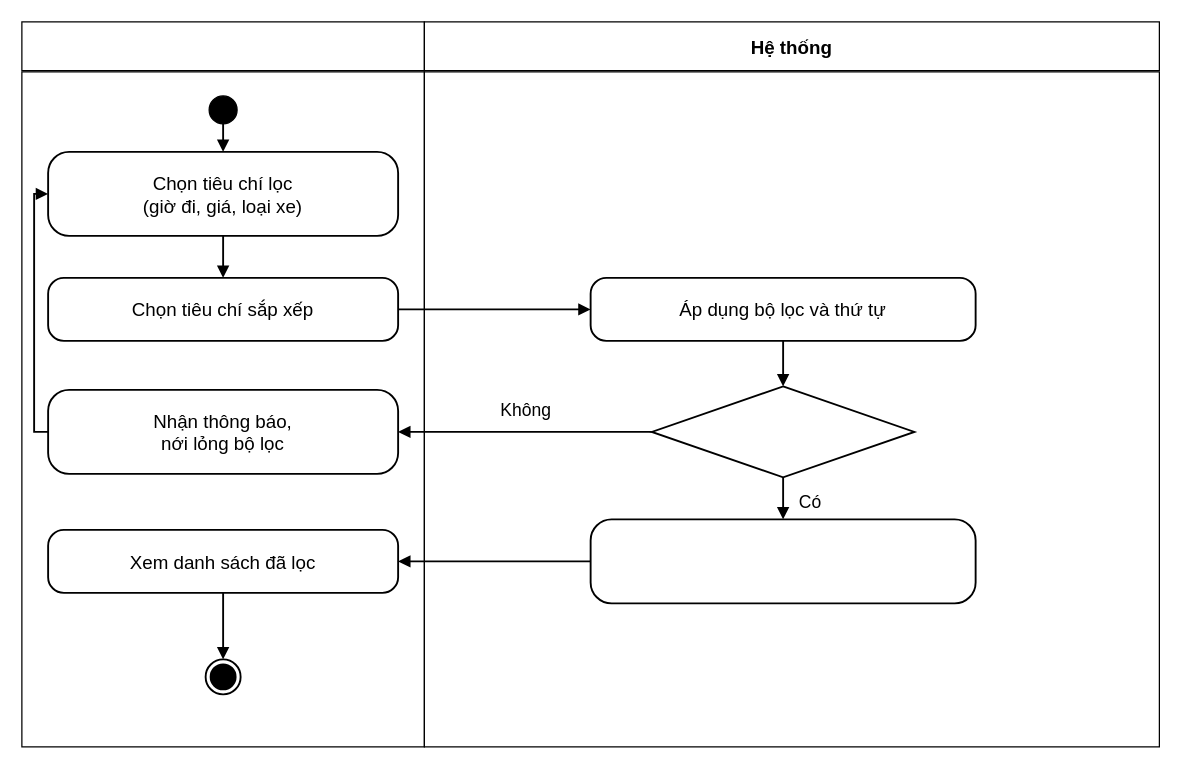
The diagram is 1181 pixels wide and 769 high, and some of its shapes have lost their labels. The centre of each missing label's shape, as x and y in pixels:
Có kết quả?: the point at 782,431
Cập nhật danh sách và số chuyến tìm được: the point at 782,561
Khách vãng lai: the point at 222,46
